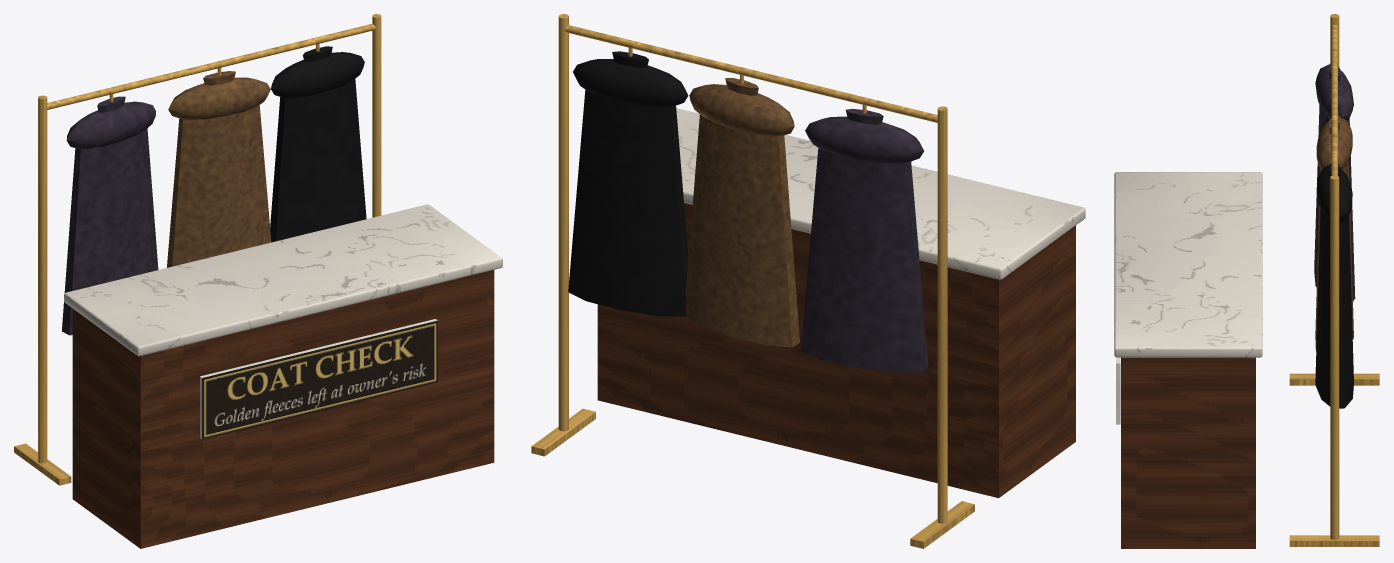
File: coat_check.gltf
3 renders of one model, left to right at view 1: azimuth 30°, elevation 25°; view 2: azimuth 150°, elevation 25°; view 3: azimuth 270°, elevation 25°, orthographic. The views are drawn at different scales.
Visible parts, largest first — view 1: CoatCheck; view 2: CoatCheck; view 3: CoatCheck.
Boxes of the visible parts, x1,y1,x2,y2 form: CoatCheck: [14, 14, 502, 548]; CoatCheck: [531, 14, 1085, 548]; CoatCheck: [1114, 14, 1379, 548].
Bounding box in the file's own units: 1.86 × 1.8 × 1.18.
5 materials, 5 textured.
